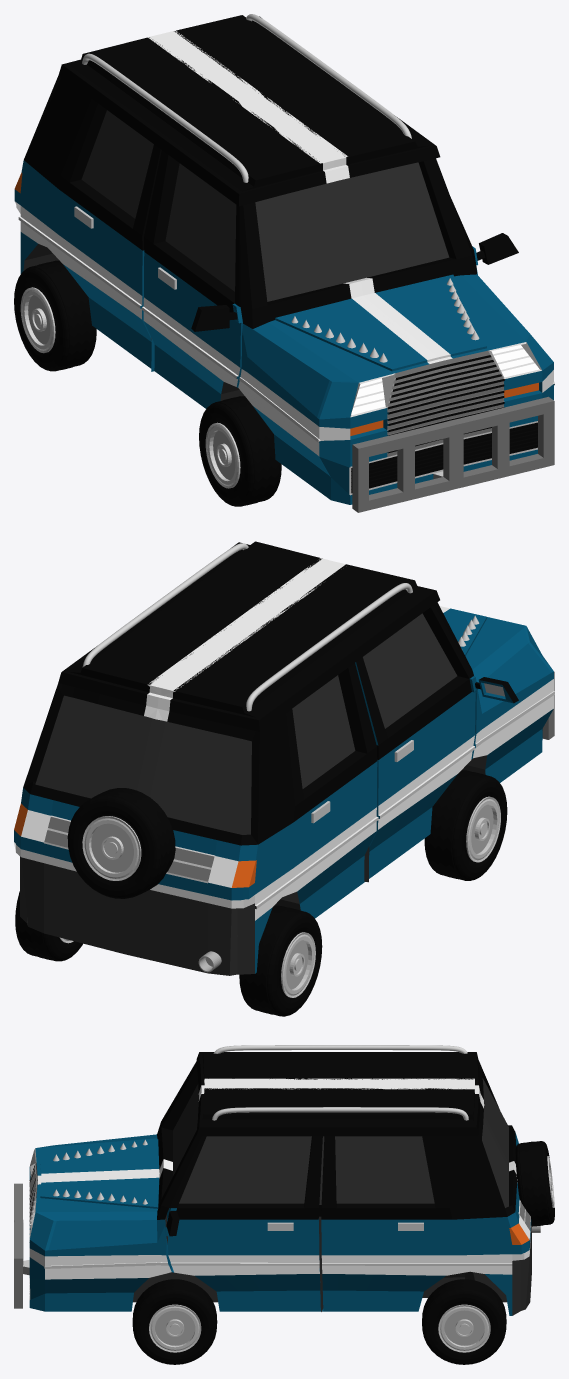
Rendered from CR-CAR-19B.fbx.
3 renders of one model, top to bottom at view 1: azimuth 30°, elevation 25°; view 2: azimuth 150°, elevation 25°; view 3: azimuth 270°, elevation 25°, orthographic. The views are drawn at different scales.
Parts seen in each view (by area): view 1: BODY, WHEEL.004, WHEEL.001, NurbsPath.001; view 2: BODY, WHEEL.005, WHEEL.001, WHEEL.004, NurbsPath.001, WHEEL.002; view 3: BODY, WHEEL.002, WHEEL.003, NurbsPath.001, WHEEL.005.
Part boxes in pixels (x1,y1,x2,y2): BODY: (14,15,554,512); WHEEL.004: (14,260,96,371); WHEEL.001: (199,396,281,506); NurbsPath.001: (82,14,411,182); BODY: (14,541,554,975); WHEEL.005: (67,788,175,898); WHEEL.001: (424,770,507,880); WHEEL.004: (239,905,322,1016); NurbsPath.001: (82,543,412,711); WHEEL.002: (15,891,82,961); BODY: (14,1052,531,1315); WHEEL.002: (422,1279,506,1364); WHEEL.003: (132,1279,217,1364); NurbsPath.001: (212,1045,468,1120); WHEEL.005: (515,1141,554,1226).
Size of the model in its own units: 135 by 123 by 250.
